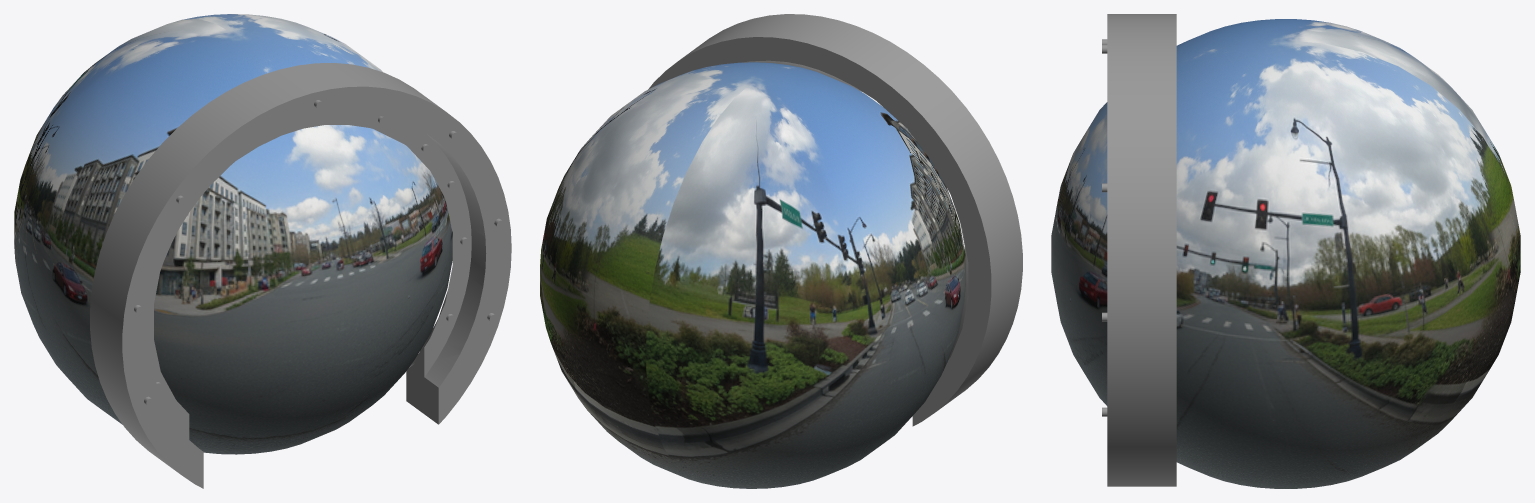
Rendered from enter_the_portal_enhanced_image.glb.
3 views of the same model, side by side, from view 1: azimuth 30°, elevation 25°; view 2: azimuth 150°, elevation 25°; view 3: azimuth 270°, elevation 25° (orthographic). The views are drawn at different scales.
Parts seen in each view (by area): view 1: Sphere008, Object010_12 - Default_0; view 2: Sphere008, Object010_12 - Default_0; view 3: Sphere008, Object010_12 - Default_0.
Part boxes in pixels (box(x1,y1,x2,y2)): Sphere008: box(14, 14, 452, 454); Object010_12 - Default_0: box(90, 63, 511, 488); Sphere008: box(540, 62, 965, 488); Object010_12 - Default_0: box(648, 14, 1022, 426); Sphere008: box(1051, 19, 1520, 488); Object010_12 - Default_0: box(1102, 14, 1176, 486).
Size of the model in its own units: 3.84 by 3.8 by 3.75.
2 materials, 1 textured.
